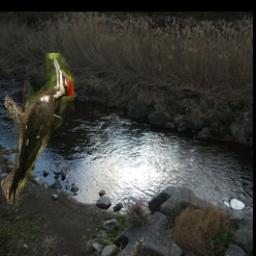Woodpecker: (2, 54, 75, 205)
